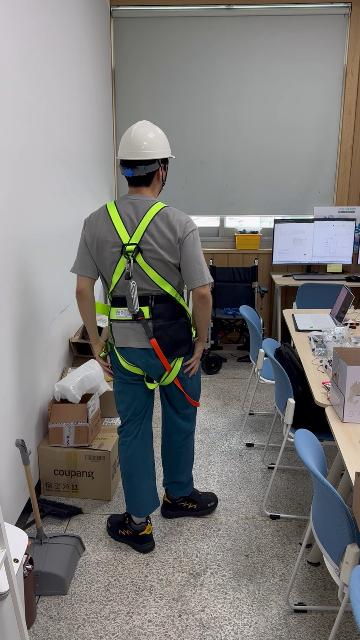helmet_worn: (115, 119, 176, 162)
shoe_worn: (106, 512, 155, 553), (161, 487, 217, 518)
vest_worn: (102, 203, 199, 380)
